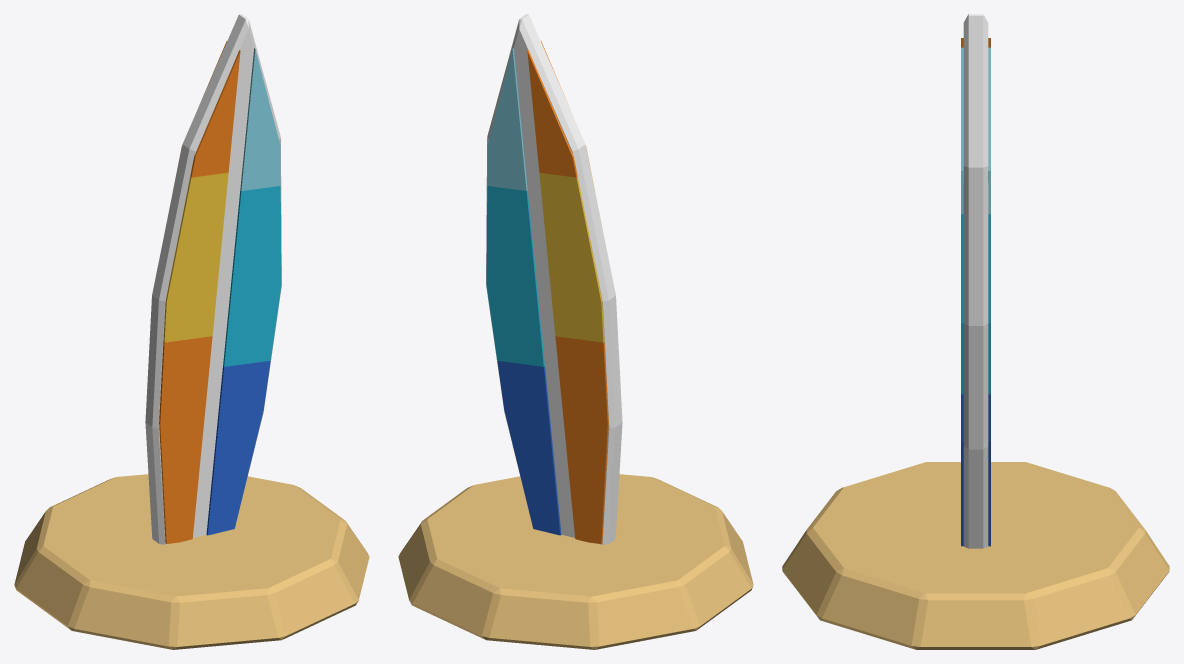
The model's file is surfboard-1x1.glb.
The picture shows the model from 3 angles, left to right: view 1: azimuth 30°, elevation 25°; view 2: azimuth 150°, elevation 25°; view 3: azimuth 270°, elevation 25°; orthographic projection. The views are drawn at different scales.
Parts seen in each view (by area): view 1: surfboard-1x1; view 2: surfboard-1x1; view 3: surfboard-1x1.
Boxes of the visible parts, x1,y1,x2,y2 form: surfboard-1x1: [14, 14, 369, 649]; surfboard-1x1: [398, 14, 753, 649]; surfboard-1x1: [782, 14, 1169, 649].
Bounding box in the file's own units: 0.8628 × 1.5 × 0.9.
Materials: 1 (1 with a texture image).
